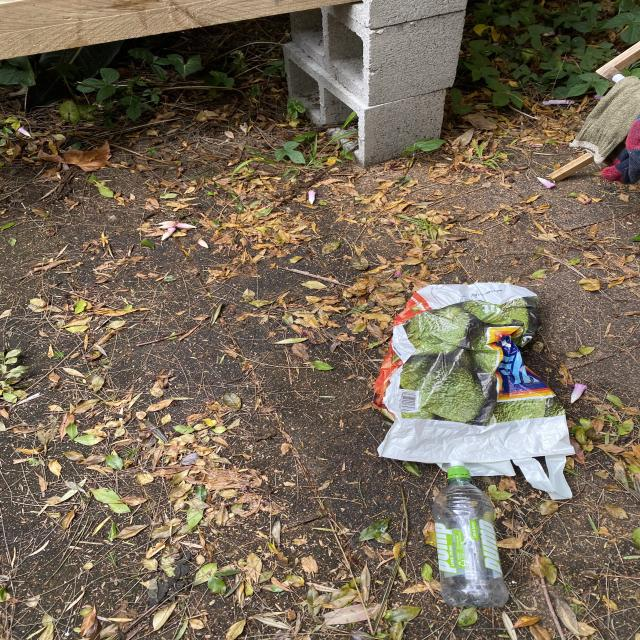bottle: (372, 281, 575, 500), (432, 461, 509, 607)
